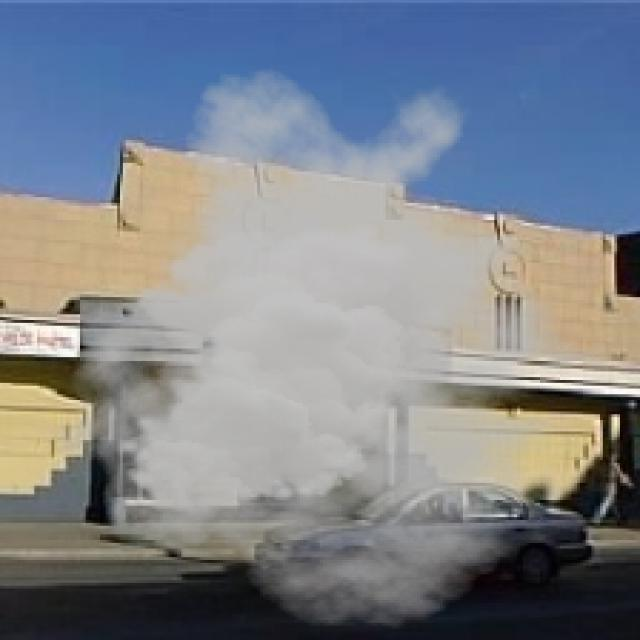Smoke: (54, 66, 620, 628)
